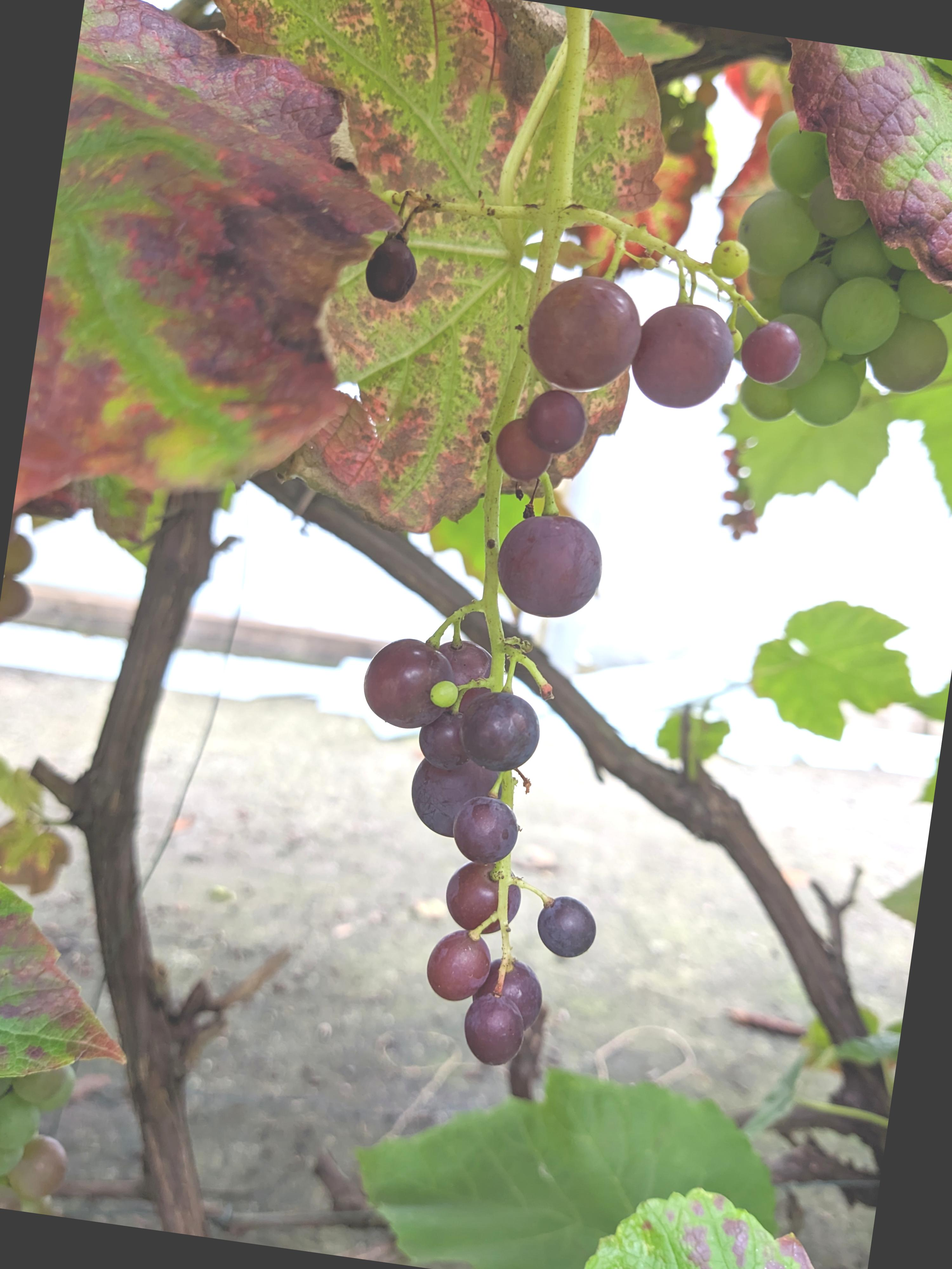Grape Unripe: (401, 179, 892, 1041), (780, 37, 952, 389)
